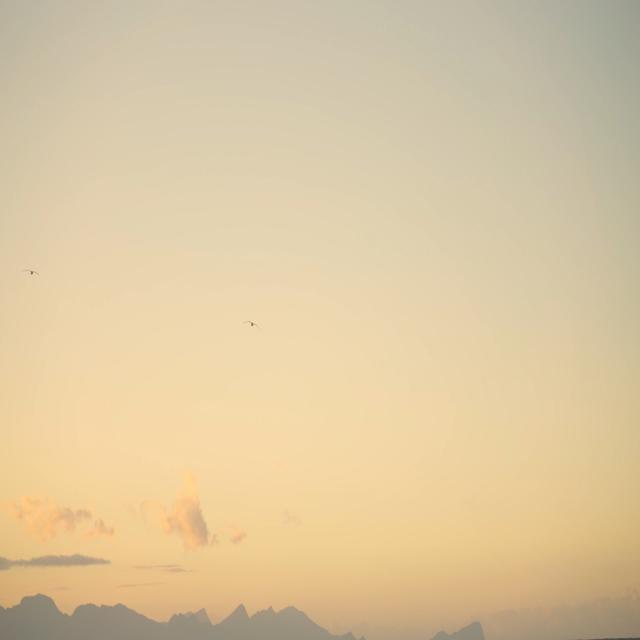bird: (19, 255, 42, 283), (242, 316, 259, 330)
